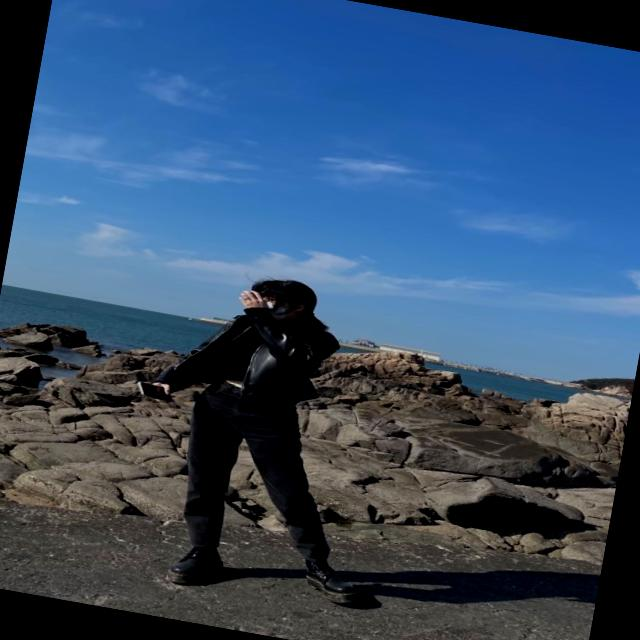blazer: (152, 289, 346, 416)
denimpants: (165, 374, 358, 574)
